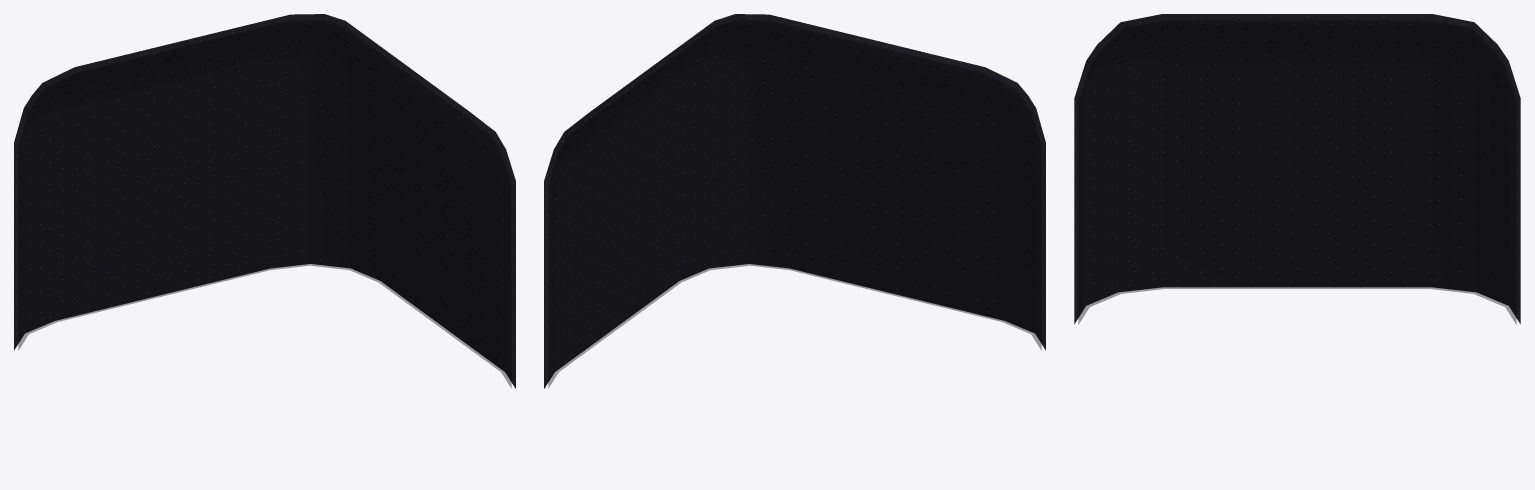
File: islandWalls.glb
3 renders of one model, left to right at view 1: azimuth 30°, elevation 25°; view 2: azimuth 150°, elevation 25°; view 3: azimuth 270°, elevation 25°, orthographic. The views are drawn at different scales.
Visible parts, largest first — view 1: IslandWalls.001, IslandWalls; view 2: IslandWalls.001, IslandWalls; view 3: IslandWalls.001, IslandWalls.
Boxes of the visible parts, x1,y1,x2,y2 form: IslandWalls.001: [14, 14, 515, 388]; IslandWalls: [18, 20, 511, 387]; IslandWalls.001: [544, 14, 1045, 388]; IslandWalls: [548, 20, 1041, 387]; IslandWalls.001: [1074, 14, 1520, 323]; IslandWalls: [1078, 20, 1516, 324].
Bounding box in the file's own units: 32 × 23.73 × 32.
2 materials, 2 textured.
